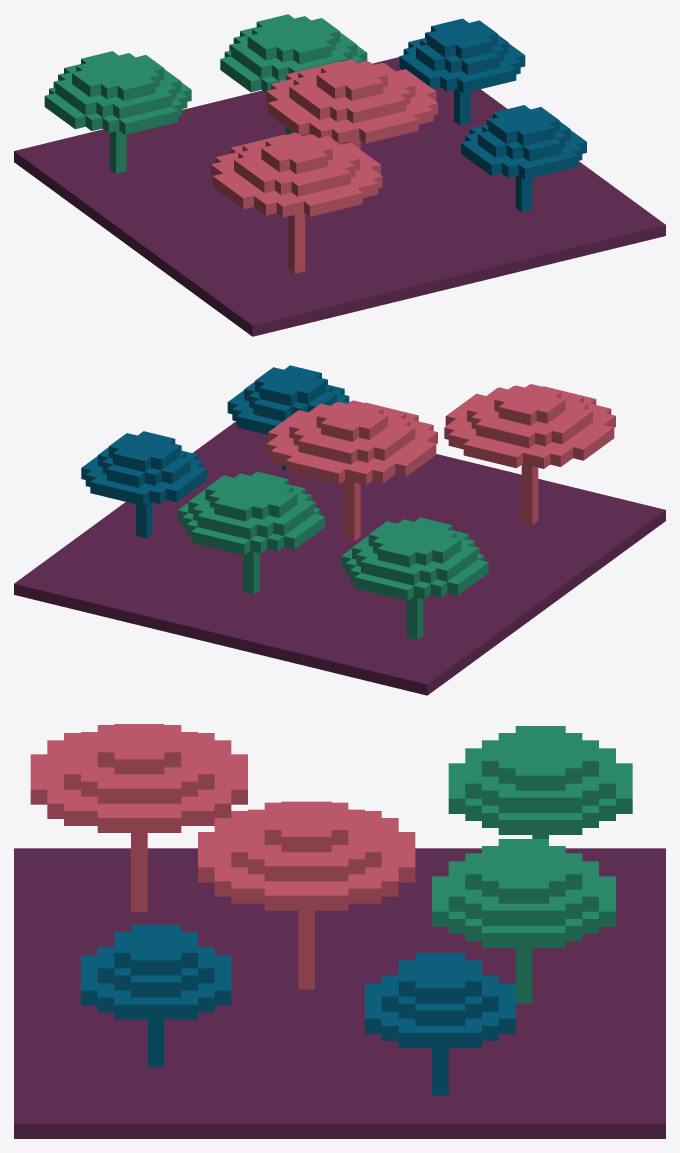
Rendered from WeirdLand.obj.
3 renders of one model, top to bottom at view 1: azimuth 30°, elevation 25°; view 2: azimuth 150°, elevation 25°; view 3: azimuth 270°, elevation 25°, orthographic. The views are drawn at different scales.
Bounding box in the file's own units: 3.9 × 1.2 × 3.9.
Materials: 1 (1 with a texture image).
